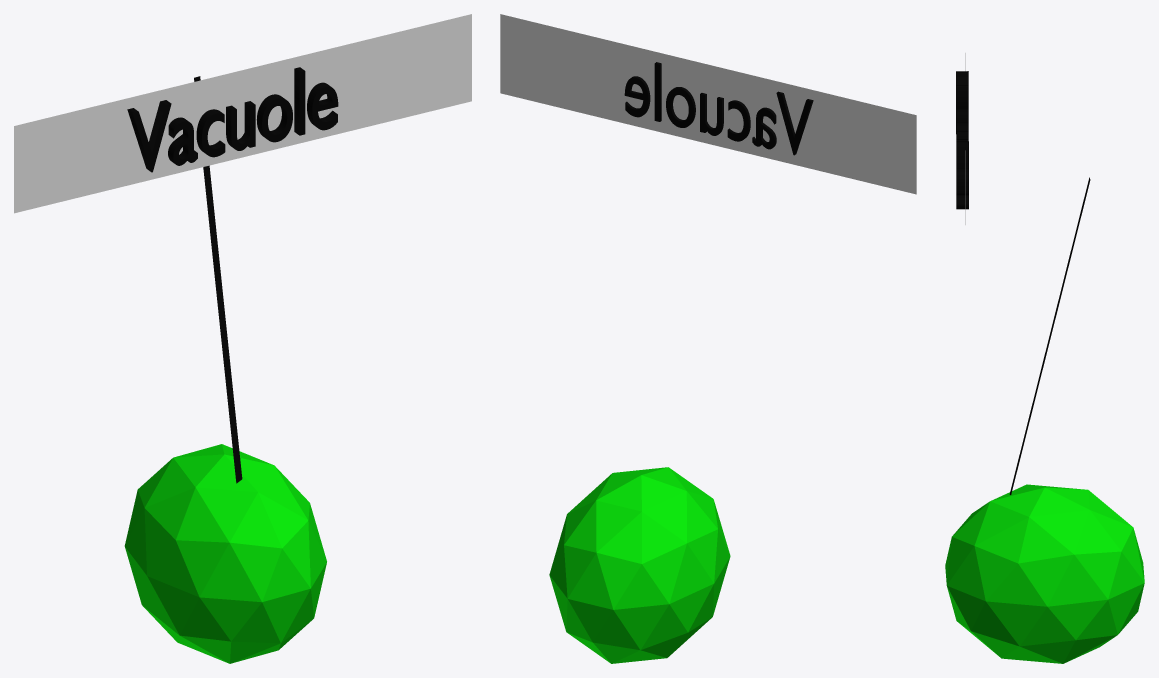
The model's file is vacuole.gltf.
The picture shows the model from 3 angles, left to right: view 1: azimuth 30°, elevation 25°; view 2: azimuth 150°, elevation 25°; view 3: azimuth 270°, elevation 25°; orthographic projection. The views are drawn at different scales.
Visible parts, largest first — view 1: Plane.016, Icosphere.008, Text.016, Plane.032; view 2: Plane.016, Icosphere.008, Text.016; view 3: Icosphere.008, Text.016, Plane.032.
Part boxes in pixels (<box>): Plane.016: <box>14,14,471,213</box>; Icosphere.008: <box>124,444,326,663</box>; Text.016: <box>127,67,338,172</box>; Plane.032: <box>194,76,242,483</box>; Plane.016: <box>500,14,916,194</box>; Icosphere.008: <box>549,467,730,663</box>; Text.016: <box>624,62,813,155</box>; Icosphere.008: <box>945,484,1144,663</box>; Text.016: <box>956,71,968,209</box>; Plane.032: <box>1009,177,1090,494</box>.
Bounding box in the file's own units: 1.33 × 1.74 × 0.5846.
